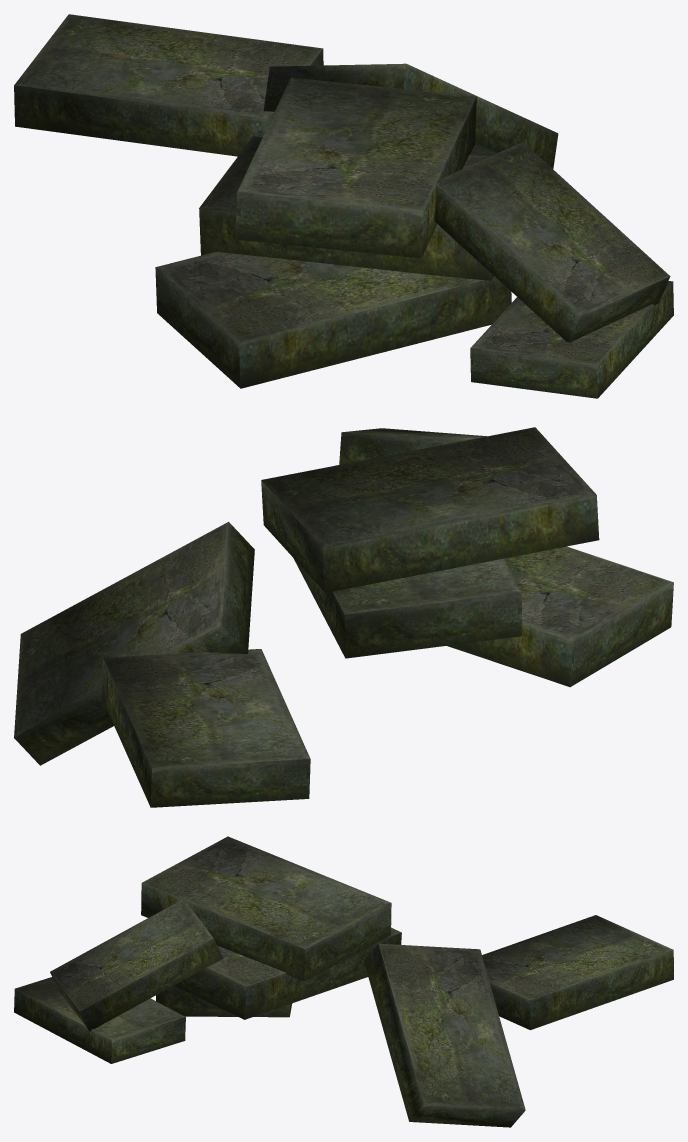
File: fxmg_shitou11.FBX
3 views of the same model, one above another, from view 1: azimuth 30°, elevation 25°; view 2: azimuth 150°, elevation 25°; view 3: azimuth 270°, elevation 25° (orthographic). The views are drawn at different scales.
Visible parts, largest first — view 1: KLMSM_shitou11; view 2: KLMSM_shitou11; view 3: KLMSM_shitou11.
Part boxes in pixels (x1,y1,x2,y2): KLMSM_shitou11: (14, 14, 673, 398); KLMSM_shitou11: (14, 427, 673, 807); KLMSM_shitou11: (14, 836, 673, 1127).
Bounding box in the file's own units: 335 × 146 × 542.
